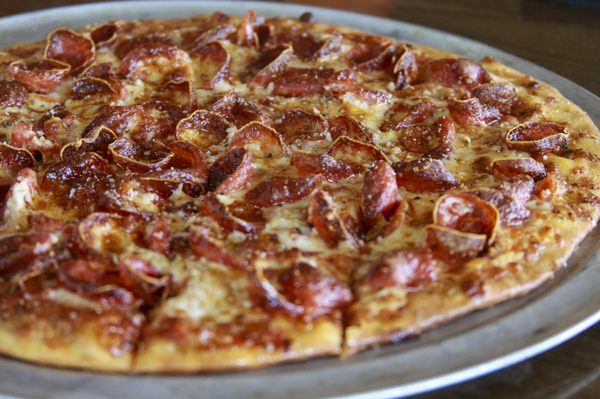sandwich: (1, 10, 600, 379)
